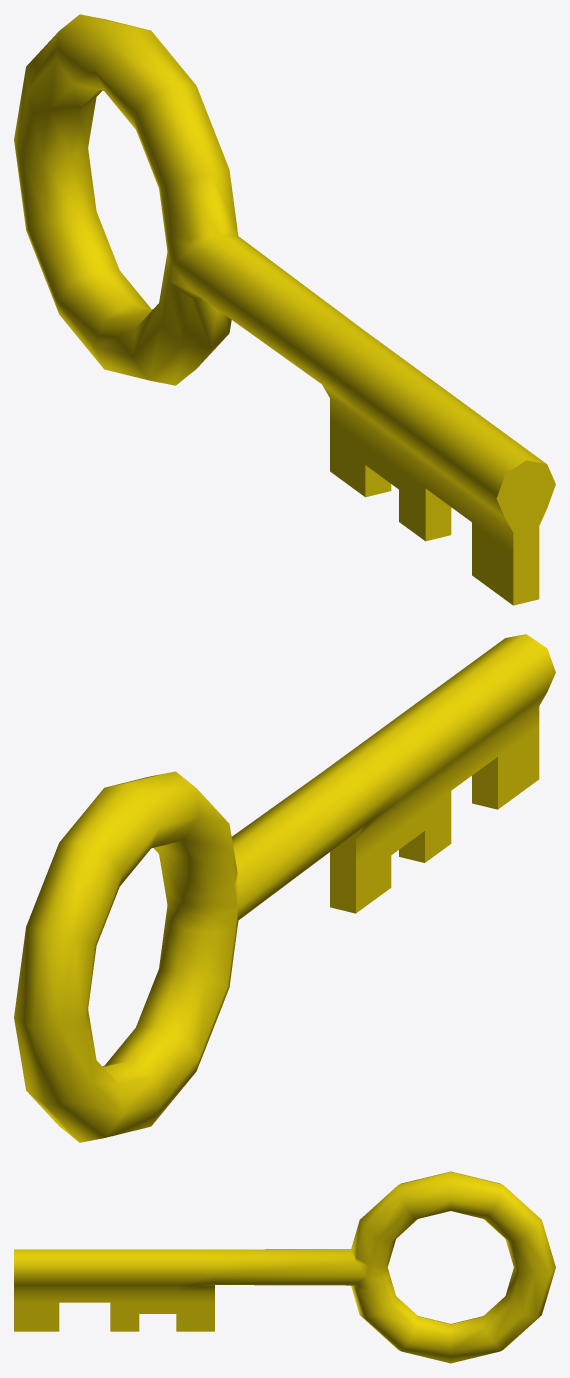
File: DR_Key.fbx
The picture shows the model from 3 angles, top to bottom: view 1: azimuth 30°, elevation 25°; view 2: azimuth 150°, elevation 25°; view 3: azimuth 270°, elevation 25°; orthographic projection. The views are drawn at different scales.
Visible parts, largest first — view 1: key; view 2: key; view 3: key.
Part boxes in pixels (left/top/right/bottom): key: left=14, top=14, right=555, bottom=605; key: left=14, top=634, right=555, bottom=1142; key: left=14, top=1171, right=555, bottom=1363.
Bounding box in the file's own units: 48.76 × 244 × 628.
